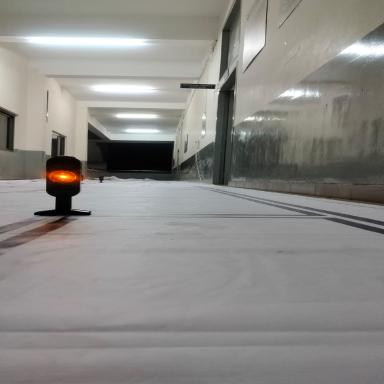yellow: (27, 146, 121, 237)
